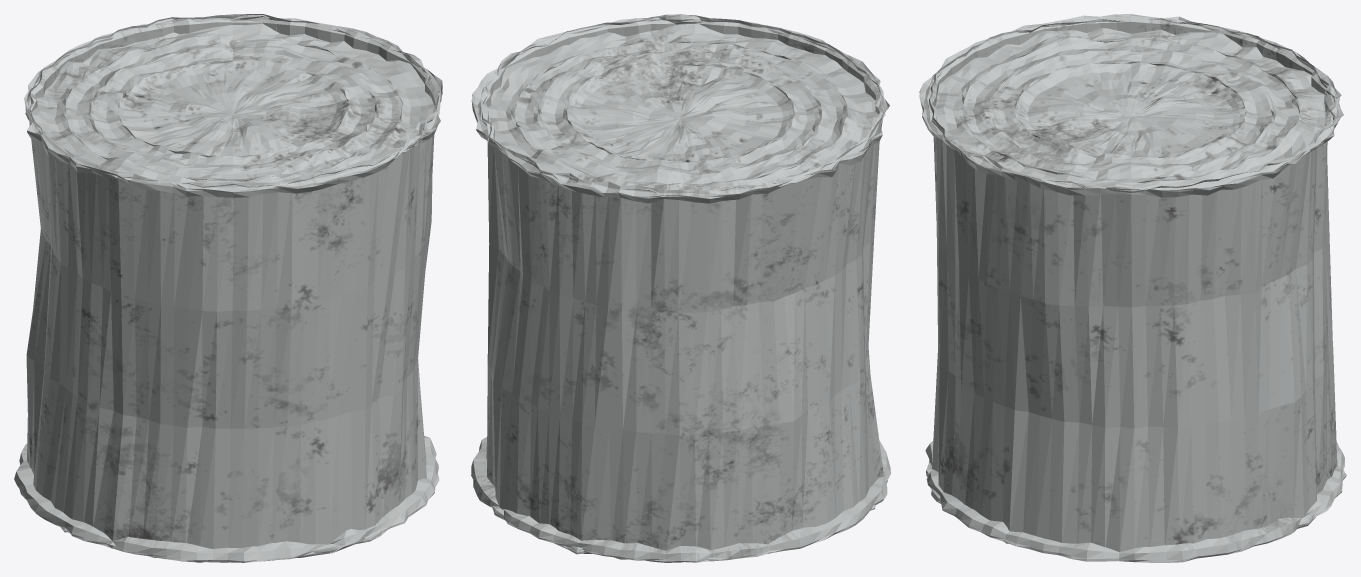
Rendered from crush_low_1.obj.
3 renders of one model, left to right at view 1: azimuth 30°, elevation 25°; view 2: azimuth 150°, elevation 25°; view 3: azimuth 270°, elevation 25°, orthographic.
Visible parts, largest first — view 1: Cam_l__0; view 2: Cam_l__0; view 3: Cam_l__0.
Part boxes in pixels (<box>): Cam_l__0: <box>14,14,442,562</box>; Cam_l__0: <box>471,14,890,562</box>; Cam_l__0: <box>919,14,1346,562</box>.
Size of the model in its own units: 0.0936 by 0.0928 by 0.0942.
Materials: 1 (1 with a texture image).
